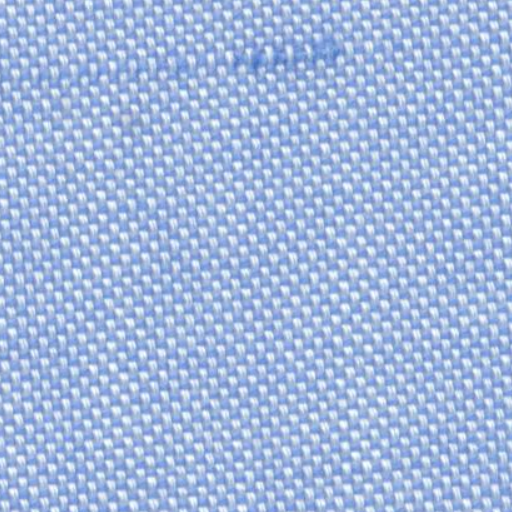DaiSha: (96, 36, 352, 83)
